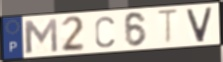2: (59, 15, 86, 54)
6: (123, 11, 150, 48)
C: (93, 15, 116, 49)
M: (22, 17, 60, 55)
T: (156, 8, 181, 46)
V: (184, 5, 214, 44)
